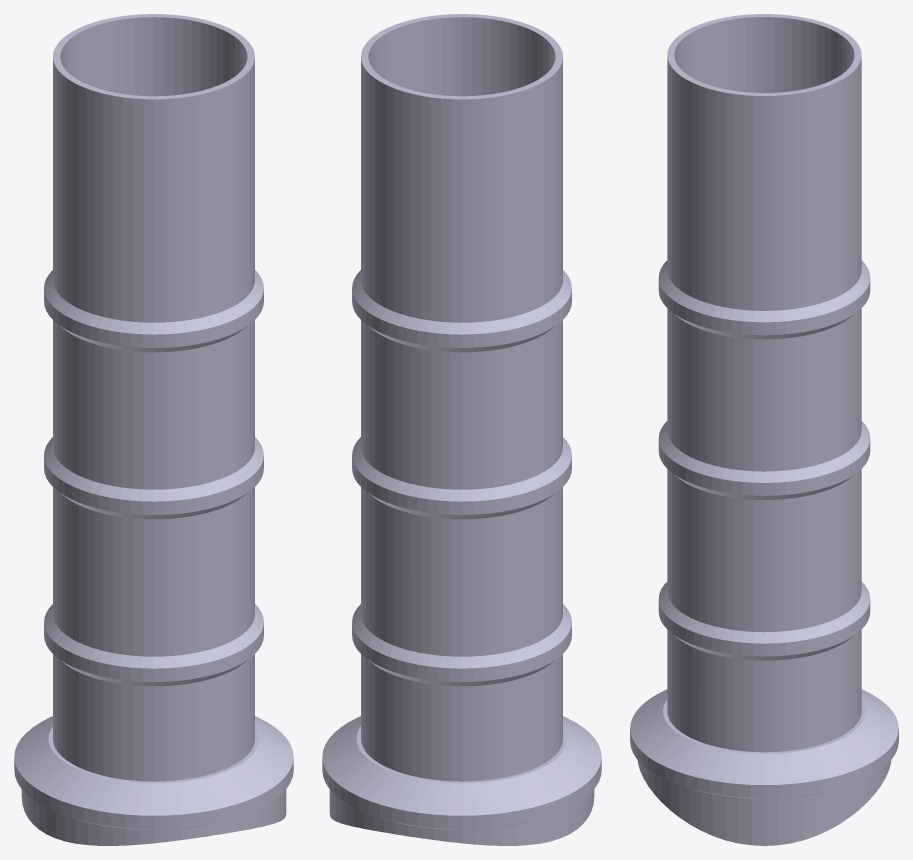
The picture shows the model from 3 angles, left to right: view 1: azimuth 30°, elevation 25°; view 2: azimuth 150°, elevation 25°; view 3: azimuth 270°, elevation 25°; orthographic projection. The views are drawn at different scales.
Parts seen in each view (by area): view 1: null; view 2: null; view 3: null.
Boxes of the visible parts, x1,y1,x2,y2 form: null: (14, 14, 293, 845); null: (322, 14, 601, 845); null: (630, 14, 898, 845).
Size of the model in its own units: 18.8 by 56.91 by 18.8.
